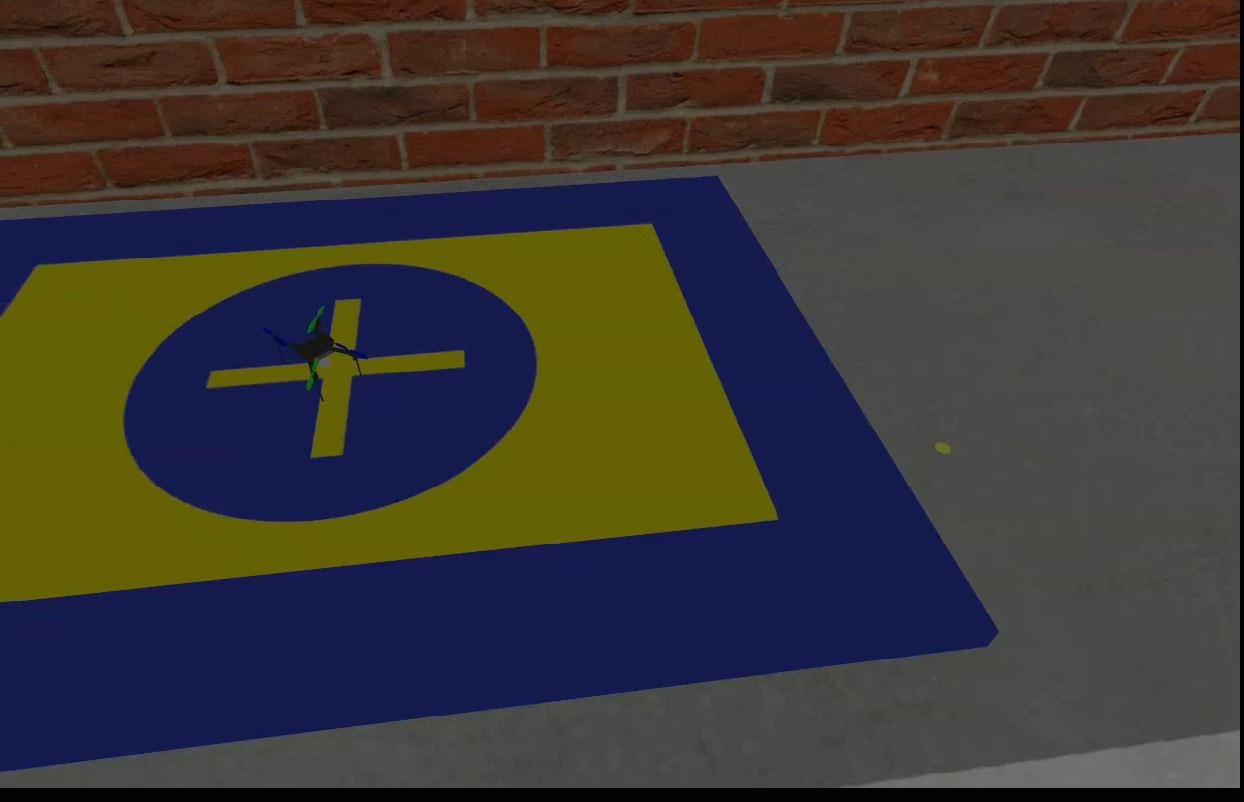large_base: (0, 176, 999, 771)
